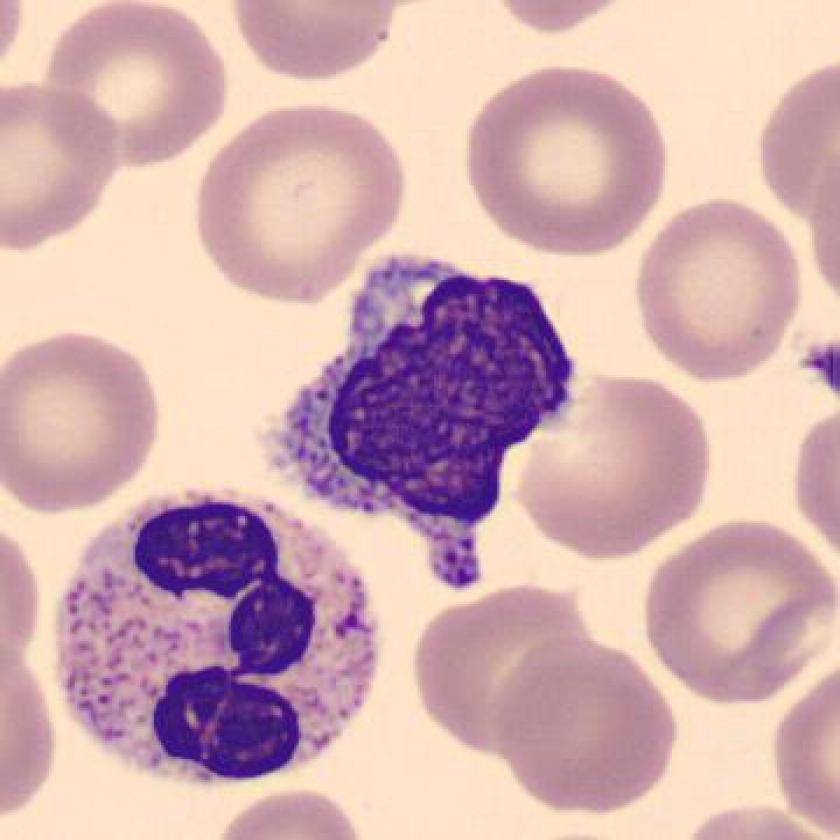lymphocyte: (258, 230, 584, 598)
neutrophil: (53, 486, 378, 799)
